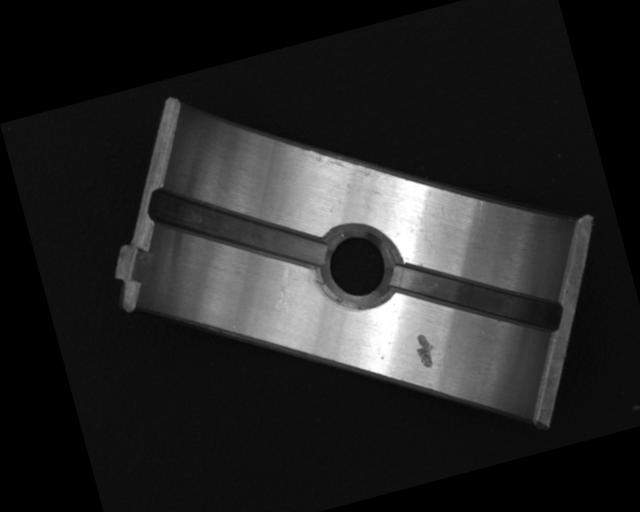bruise: (411, 330, 441, 371)
gap: (145, 150, 327, 306), (387, 229, 566, 370)
hole: (313, 221, 400, 317)
nick: (266, 263, 301, 316)
